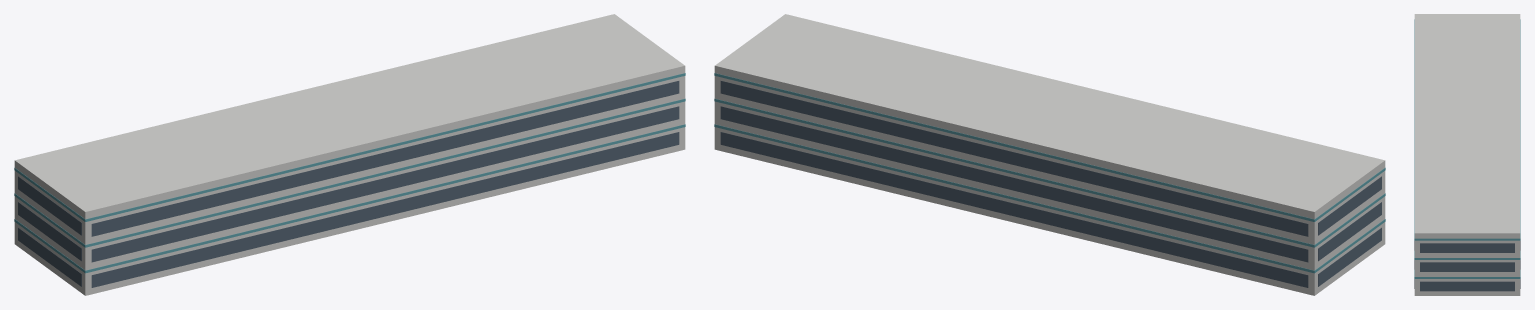
The model's file is hosp-main.mega-v1.lod2.glb.
3 views of the same model, side by side, from view 1: azimuth 30°, elevation 25°; view 2: azimuth 150°, elevation 25°; view 3: azimuth 270°, elevation 25° (orthographic). The views are drawn at different scales.
Visible parts, largest first — view 1: hosp-main; view 2: hosp-main; view 3: hosp-main.
Part boxes in pixels (x1=…): hosp-main: x1=14, y1=14, x2=685, y2=295; hosp-main: x1=714, y1=14, x2=1385, y2=295; hosp-main: x1=1414, y1=14, x2=1520, y2=295.
Bounding box in the file's own units: 98.1 × 13.1 × 20.09.
